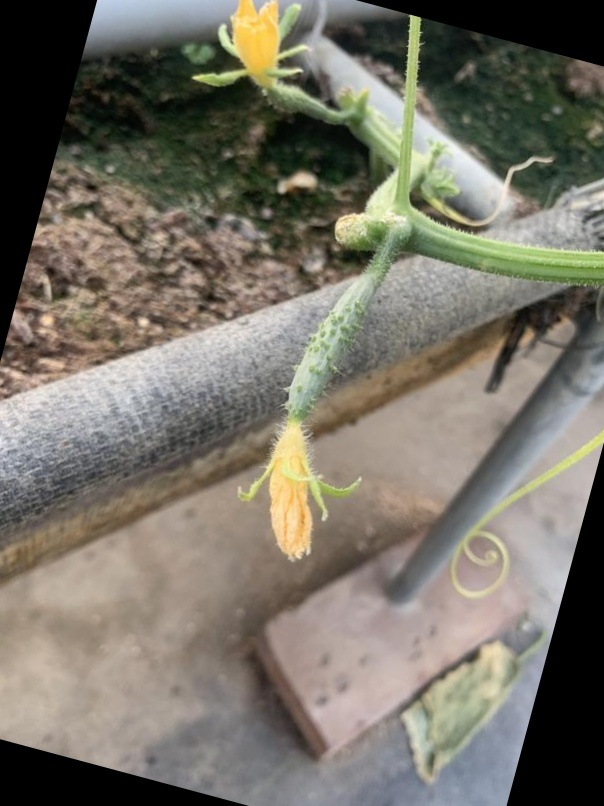bear: (224, 249, 399, 569), (201, 0, 338, 128)
